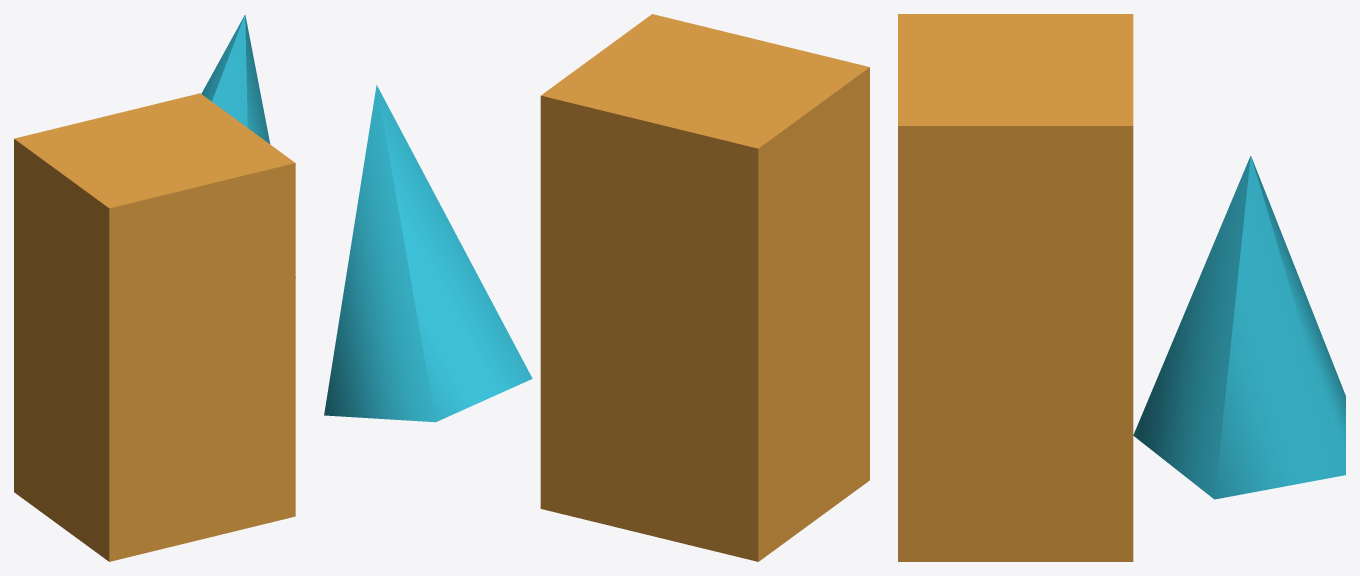
File: frame-08.glb
3 renders of one model, left to right at view 1: azimuth 30°, elevation 25°; view 2: azimuth 150°, elevation 25°; view 3: azimuth 270°, elevation 25°, orthographic. The views are drawn at different scales.
Size of the model in its own units: 0.4195 by 0.4776 by 0.419.
